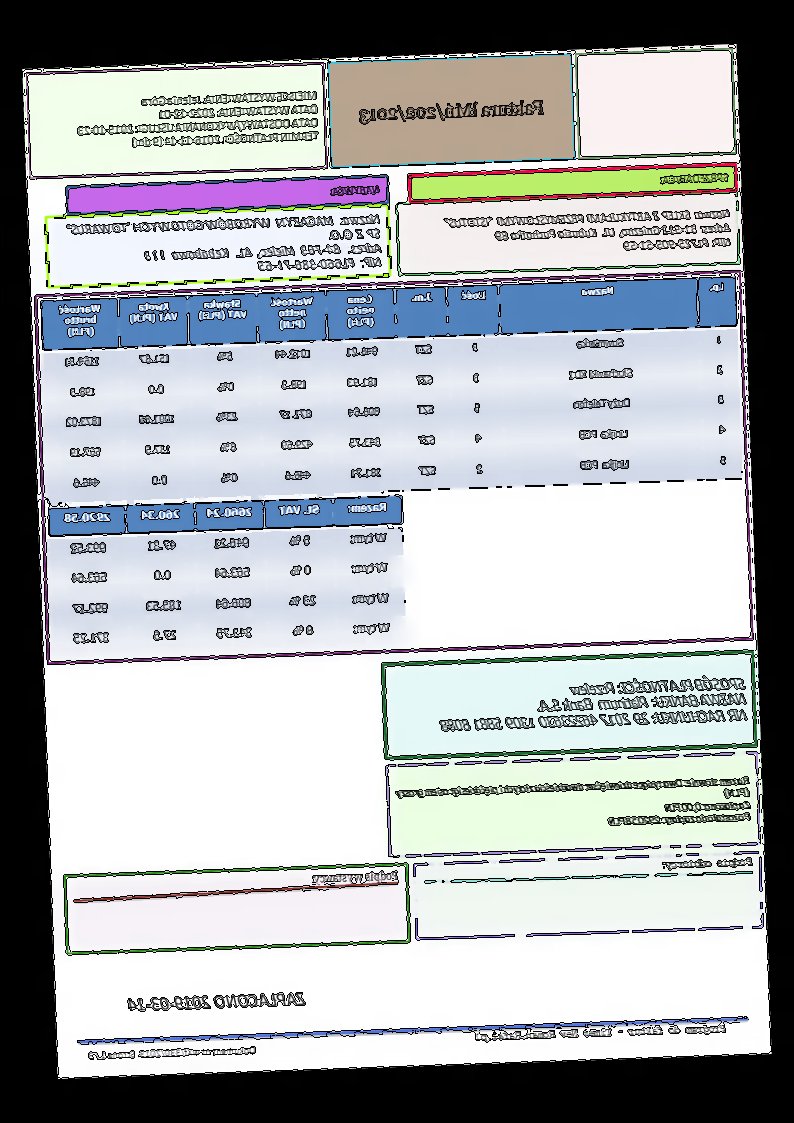Table: (41, 274, 745, 506), (47, 493, 408, 659)
TextBox: (394, 775, 753, 836), (65, 211, 384, 279), (437, 672, 749, 733), (75, 87, 321, 153), (442, 206, 734, 259), (475, 1022, 727, 1045), (358, 97, 547, 127), (127, 988, 308, 1014), (86, 1043, 258, 1062), (311, 868, 399, 888), (661, 856, 755, 872), (660, 170, 731, 186), (329, 182, 382, 199)
